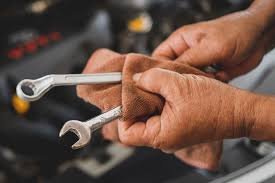Wrench: (16, 73, 121, 100), (59, 105, 121, 148)
